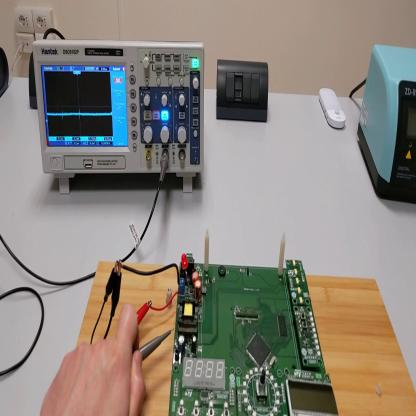hand: (41, 307, 146, 416)
low voltage board: (122, 229, 339, 416)
oscilloscope: (33, 40, 205, 195)
oscilloscope probe tip: (141, 328, 175, 362)
socket: (29, 51, 39, 109), (1, 46, 9, 102)
welder station: (356, 47, 414, 200)
working area: (77, 257, 413, 415)
